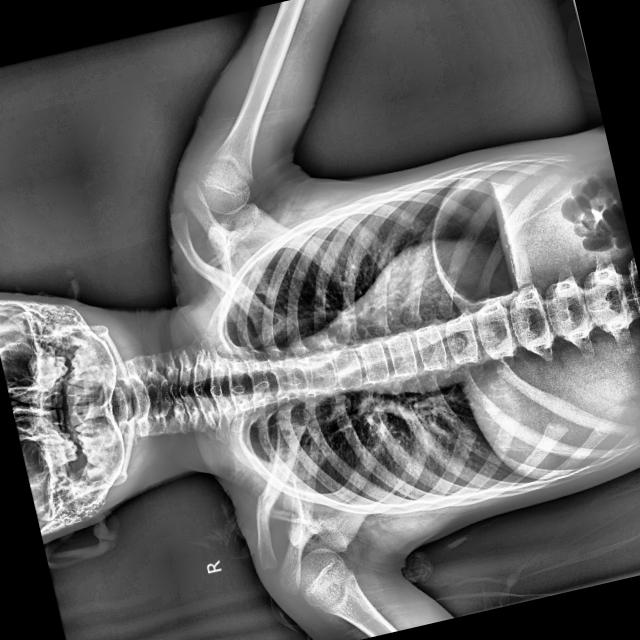Fracture: (245, 486, 282, 520)
